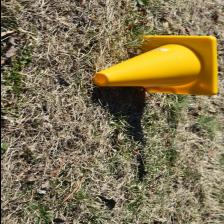cone: (91, 35, 217, 96)
